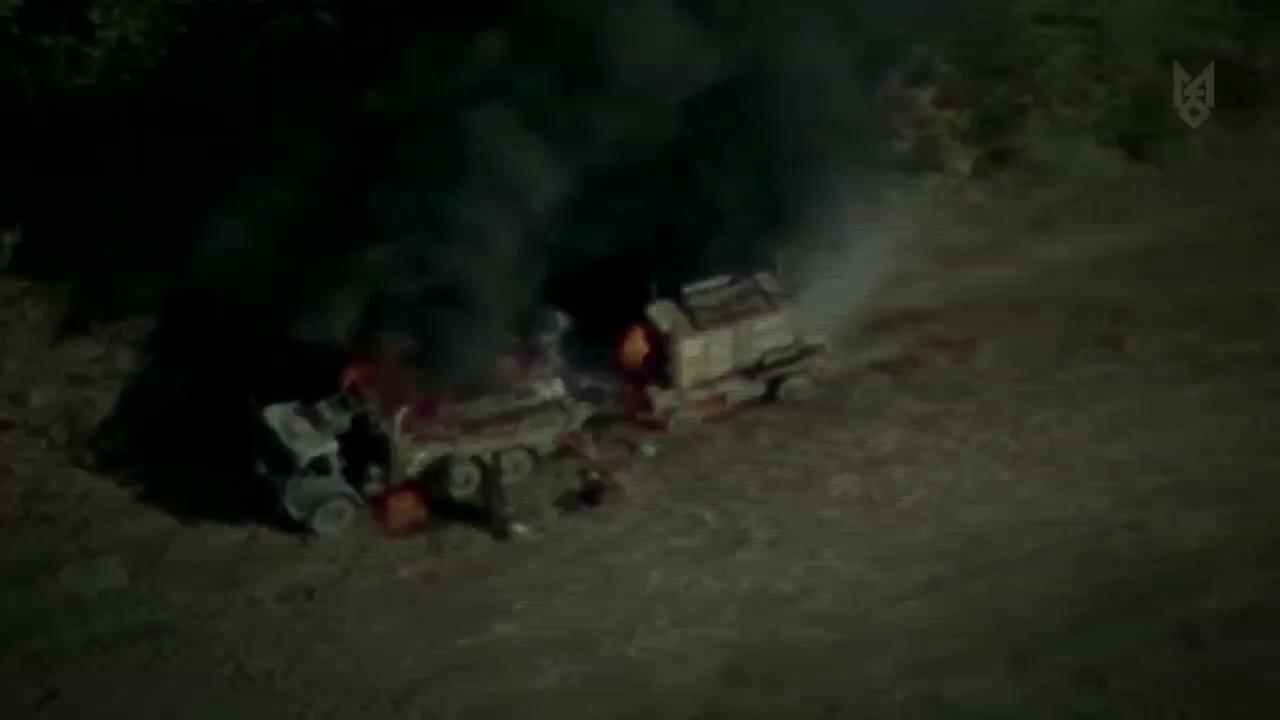tank: (247, 361, 606, 541), (622, 266, 832, 430)
